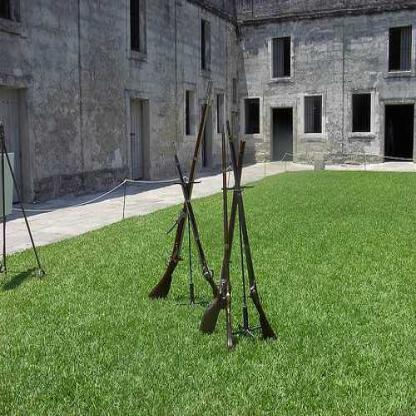rifle: (136, 77, 218, 304), (194, 139, 260, 342)
